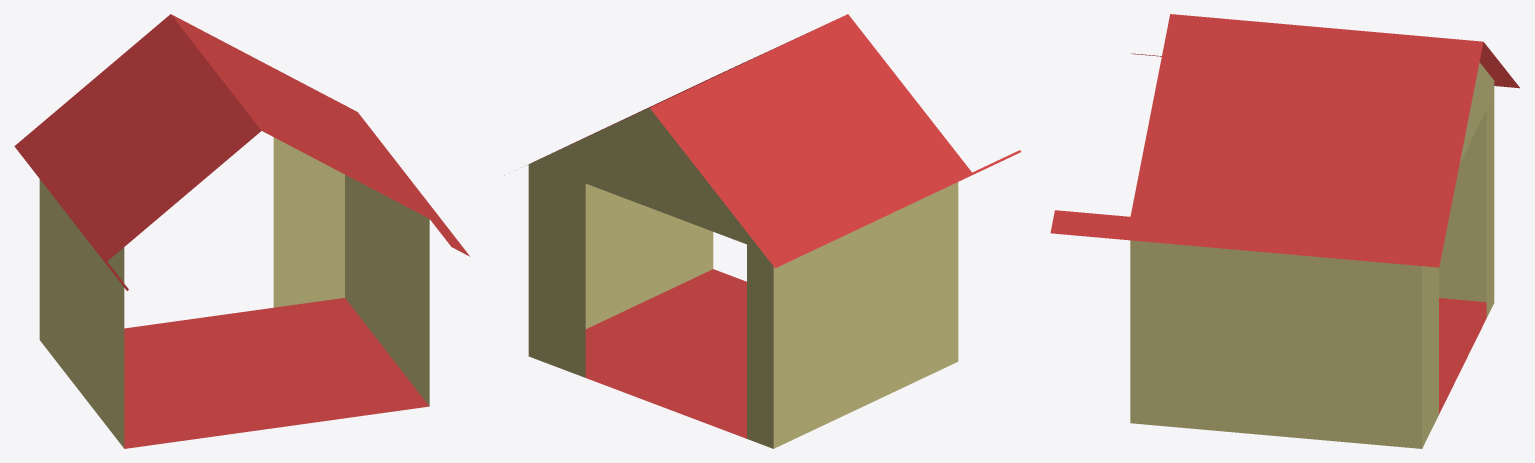
3 views of the same model, side by side, from view 1: azimuth 30°, elevation 25°; view 2: azimuth 150°, elevation 25°; view 3: azimuth 270°, elevation 25° (orthographic). The views are drawn at different scales.
Size of the model in its own units: 15.9 by 15.89 by 12.27.
